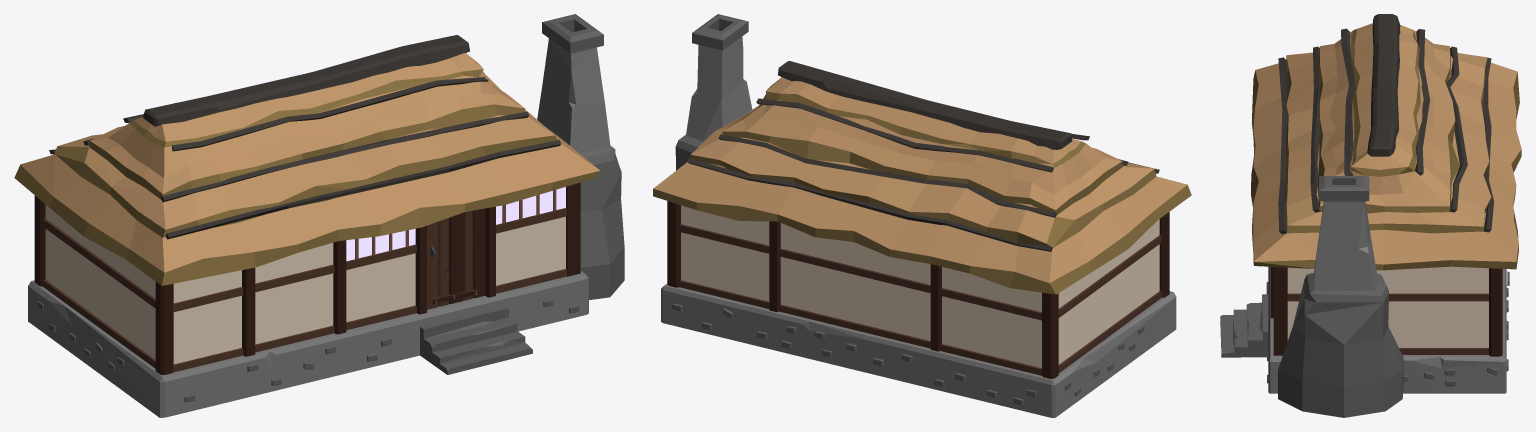
File: Building_6 Asia.fbx
3 views of the same model, side by side, from view 1: azimuth 30°, elevation 25°; view 2: azimuth 150°, elevation 25°; view 3: azimuth 270°, elevation 25° (orthographic). The views are drawn at different scales.
Visible parts, largest first — view 1: Building_6; view 2: Building_6; view 3: Building_6.
Boxes of the visible parts, box(x1,y1,x2,y2) form: Building_6: box(14, 14, 624, 417); Building_6: box(653, 14, 1191, 417); Building_6: box(1220, 14, 1521, 417).
Size of the model in its own units: 9.67 by 4.54 by 5.55.
